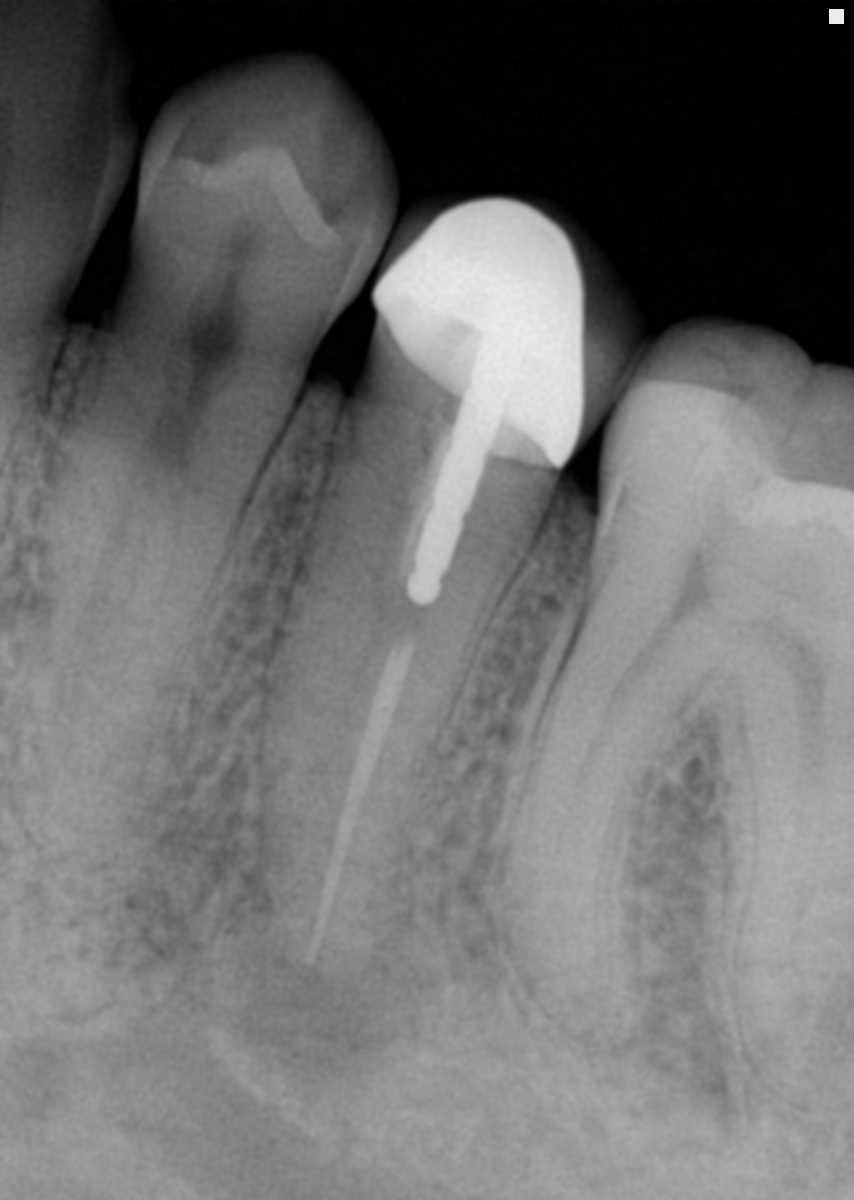Apical Lesion: (213, 867, 420, 1098)
Distal Canal: (781, 684, 823, 1026)
Distal Root: (58, 398, 304, 794), (735, 680, 854, 1108)
Main Root: (263, 403, 565, 969)
Mesial Canal: (547, 623, 675, 931)
Mesial Root: (484, 540, 712, 1057), (0, 335, 156, 760)
Root Canal Filling: (307, 648, 410, 957)
